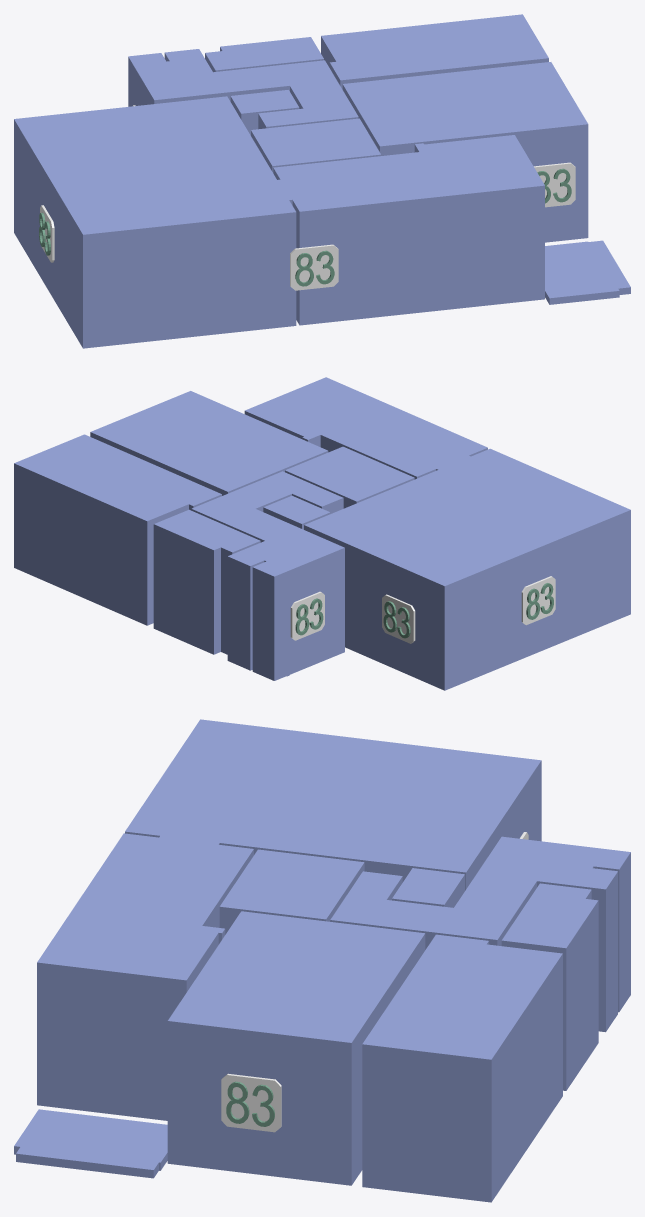
3 renders of one model, top to bottom at view 1: azimuth 30°, elevation 25°; view 2: azimuth 150°, elevation 25°; view 3: azimuth 270°, elevation 25°, orthographic. The views are drawn at different scales.
Visible parts, largest first — view 1: g_1, g_0, g_3, g_4, g_7, g_2, g_8, g_5, g_6, g_26, g_23; view 2: g_1, g_4, g_7, g_3, g_0, g_5, g_2, g_6, g_20, g_14, g_11; view 3: g_3, g_1, g_4, g_0, g_7, g_5, g_8, g_2, g_17, g_6.
Boxes of the visible parts, bbox=[...] form: g_1: bbox=[14, 96, 296, 348]; g_0: bbox=[273, 135, 544, 325]; g_3: bbox=[342, 62, 588, 242]; g_4: bbox=[321, 14, 548, 89]; g_7: bbox=[128, 49, 358, 129]; g_2: bbox=[251, 118, 381, 172]; g_8: bbox=[545, 240, 630, 304]; g_5: bbox=[205, 37, 323, 72]; g_6: bbox=[230, 90, 299, 135]; g_26: bbox=[290, 244, 338, 290]; g_23: bbox=[534, 162, 575, 207]; g_1: bbox=[304, 448, 630, 690]; g_4: bbox=[14, 434, 221, 625]; g_7: bbox=[191, 471, 344, 680]; g_3: bbox=[90, 391, 328, 495]; g_0: bbox=[244, 377, 487, 479]; g_5: bbox=[153, 509, 260, 654]; g_2: bbox=[285, 446, 414, 508]; g_6: bbox=[263, 495, 330, 529]; g_20: bbox=[290, 591, 324, 640]; g_14: bbox=[521, 576, 555, 625]; g_11: bbox=[382, 594, 415, 643]; g_3: bbox=[167, 911, 425, 1185]; g_1: bbox=[125, 719, 541, 890]; g_4: bbox=[362, 934, 562, 1202]; g_0: bbox=[37, 833, 253, 1120]; g_7: bbox=[330, 836, 630, 1032]; g_5: bbox=[501, 883, 598, 1090]; g_8: bbox=[14, 1109, 167, 1178]; g_2: bbox=[219, 849, 364, 934]; g_17: bbox=[221, 1073, 281, 1132]; g_6: bbox=[392, 868, 464, 907].
Bounding box in the file's own units: 13.16 × 2.74 × 10.08.
